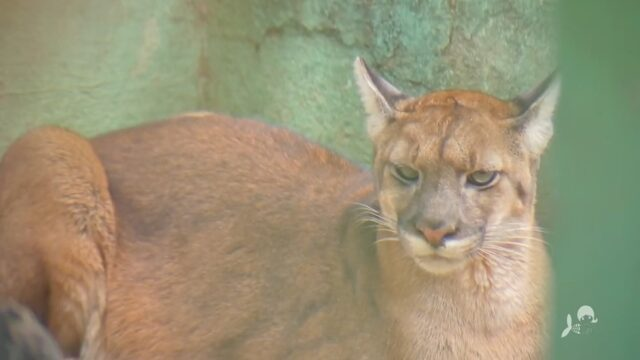OncaParda: (8, 54, 568, 349)
